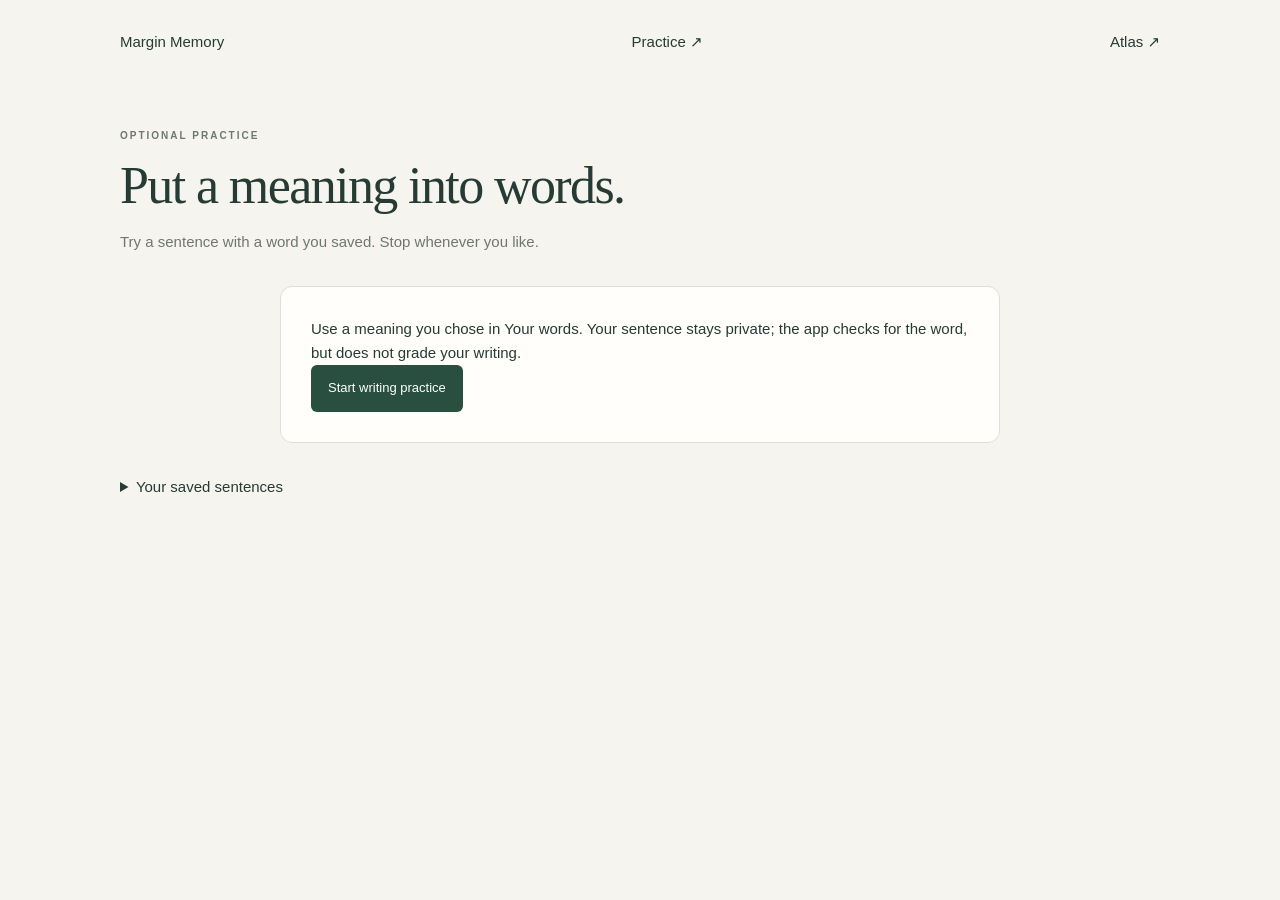
Test case: saves a sentence without requesting a self-review and keeps history optional
Click the button "Start writing practice" at (387, 388), box [311,365,463,412]
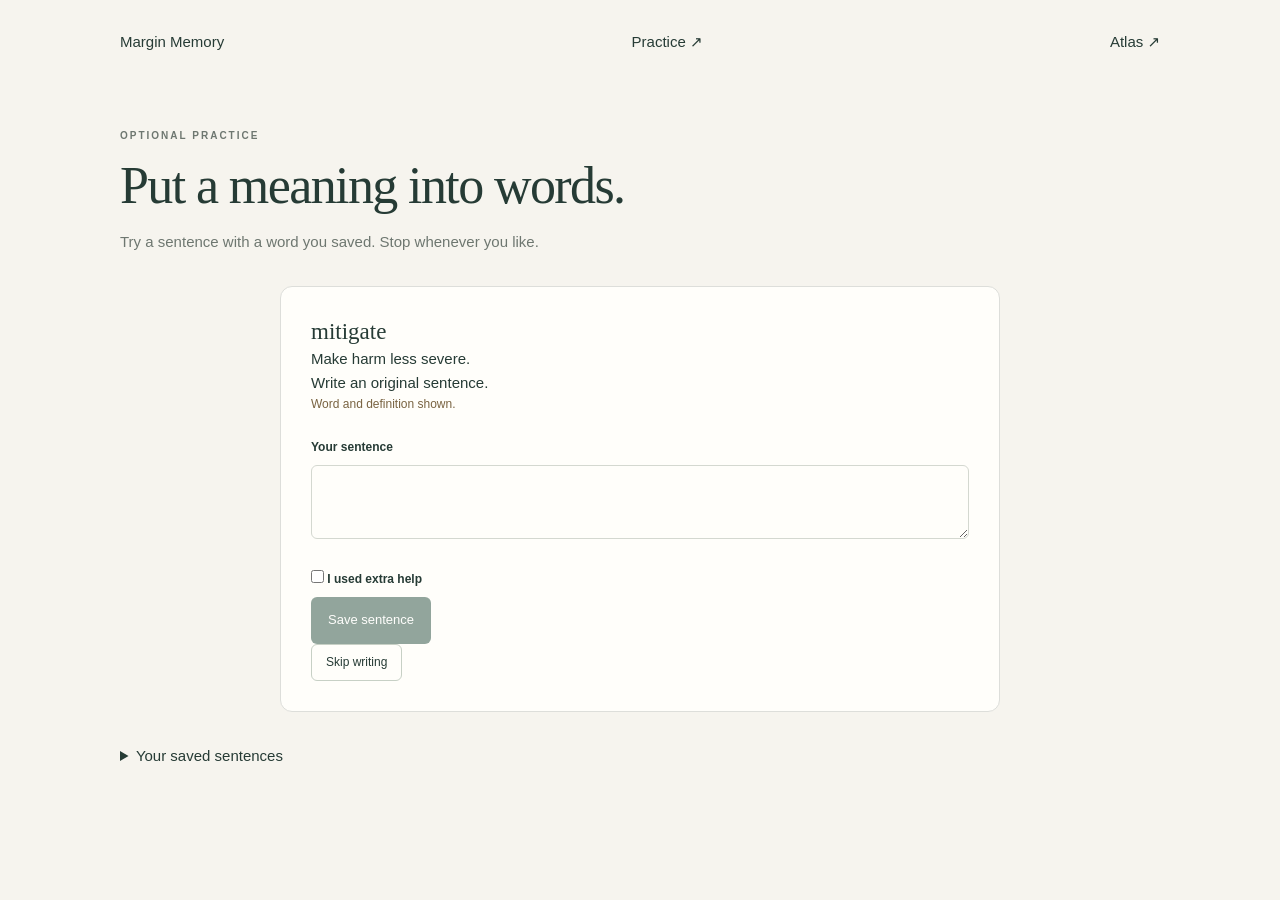
Result: the text box labelled "Your sentence" is shown
Type "We mitigate delays." into the text box labelled "Your sentence" at (640, 502), box [311,465,969,539]
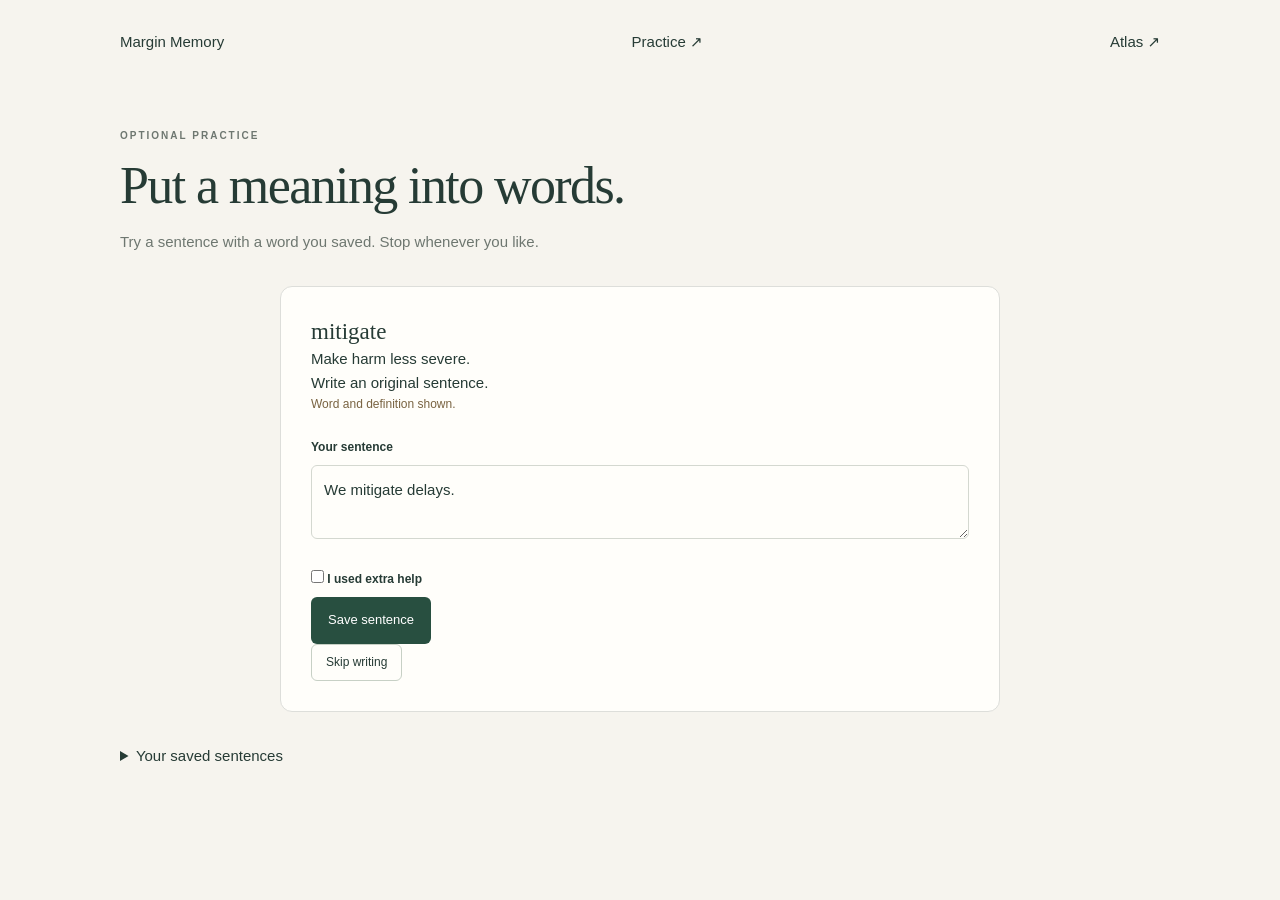
Click the button "Save sentence" at (371, 621), box [311,597,431,644]
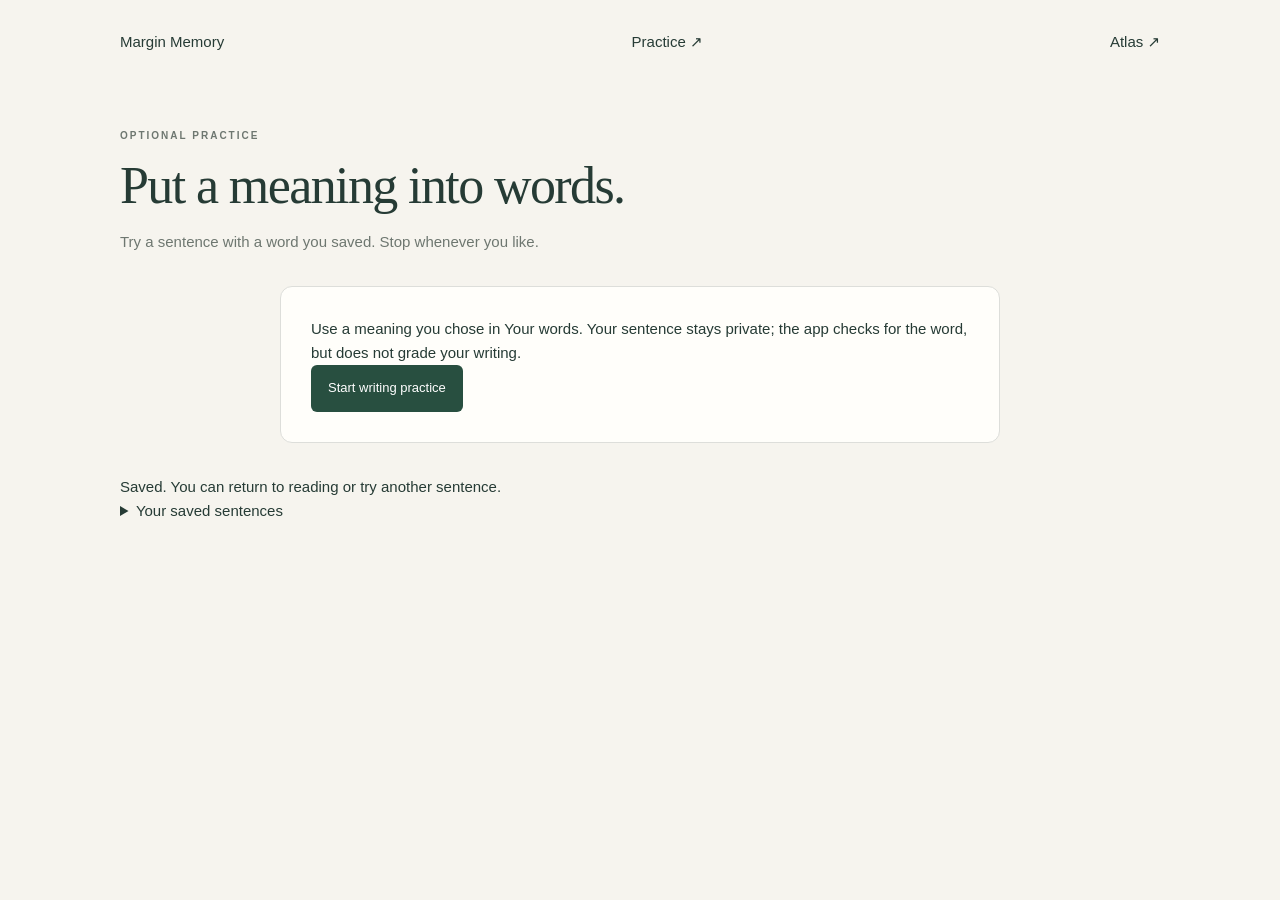
Result: the message "Saved. You can return to reading or try another sentence." is shown at [120,478,501,495]
Click the heading "Your saved sentences" at (209, 510), box [136,502,283,519]
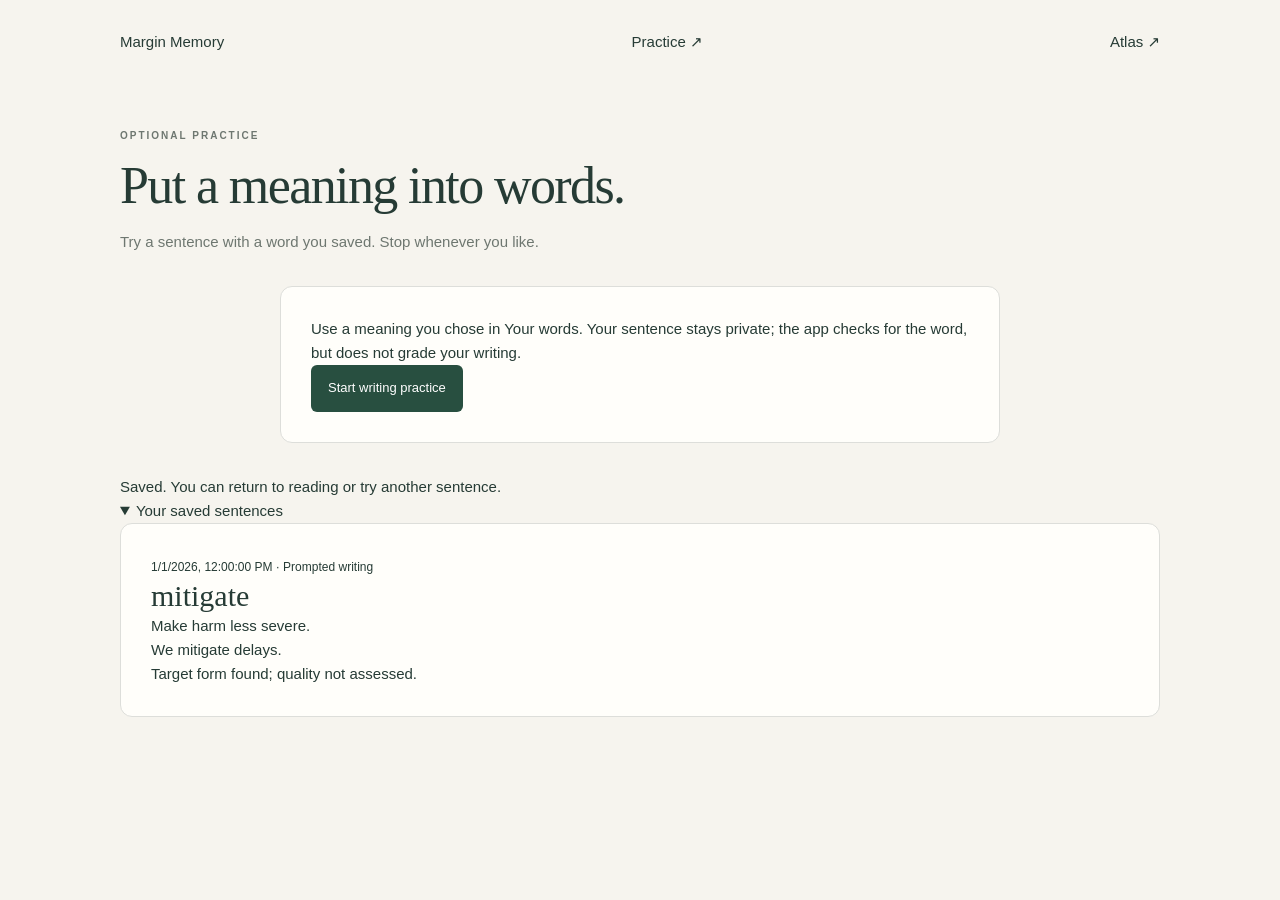
Result: the text "We mitigate delays." is shown at [151,641,282,658]
